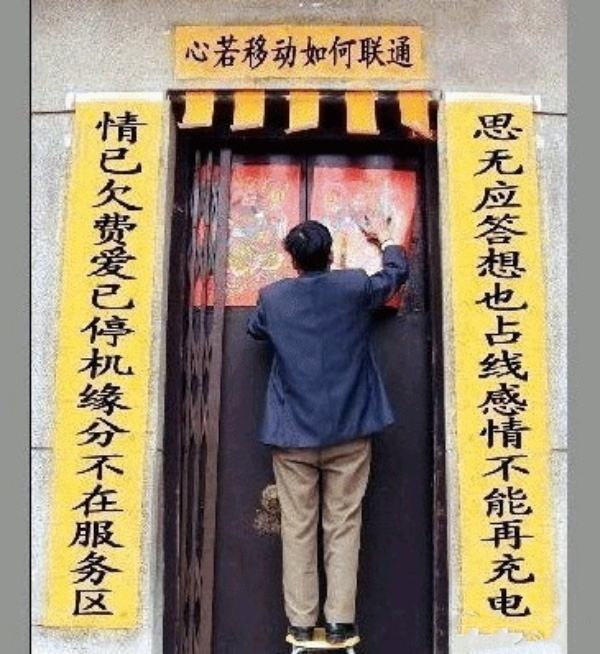text: (97, 107, 112, 618), (113, 107, 128, 618), (129, 107, 144, 618), (481, 111, 496, 622), (497, 111, 512, 622), (513, 111, 528, 622), (529, 111, 543, 622), (467, 111, 480, 622), (145, 107, 148, 618), (193, 35, 208, 71), (209, 35, 224, 71), (225, 35, 240, 71), (241, 35, 256, 71), (257, 35, 272, 71), (273, 35, 288, 71), (289, 35, 304, 71), (305, 35, 320, 71), (321, 35, 336, 71), (337, 35, 352, 71), (353, 35, 368, 71), (369, 35, 384, 71), (385, 35, 400, 71), (401, 35, 415, 71), (185, 35, 192, 71)
